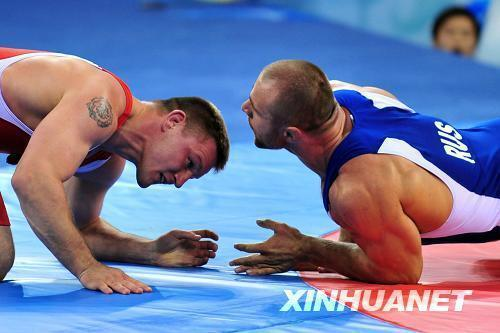Fall-Detected: (0, 3, 240, 297)
